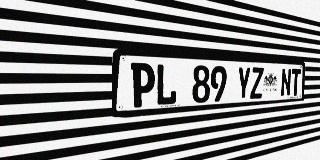8: (192, 65, 210, 103)
9: (210, 66, 227, 102)
L: (155, 64, 177, 106)
N: (280, 68, 291, 97)
P: (130, 63, 155, 108)
T: (290, 69, 301, 96)
Y: (236, 67, 251, 100)
Z: (250, 67, 264, 99)
